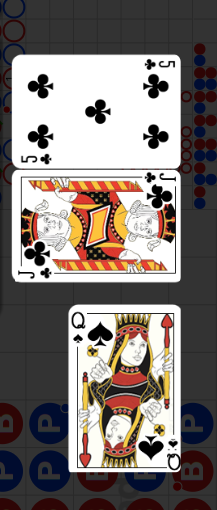5C: (19, 152, 54, 165)
JC: (17, 266, 54, 282)
QS: (69, 310, 85, 346)
